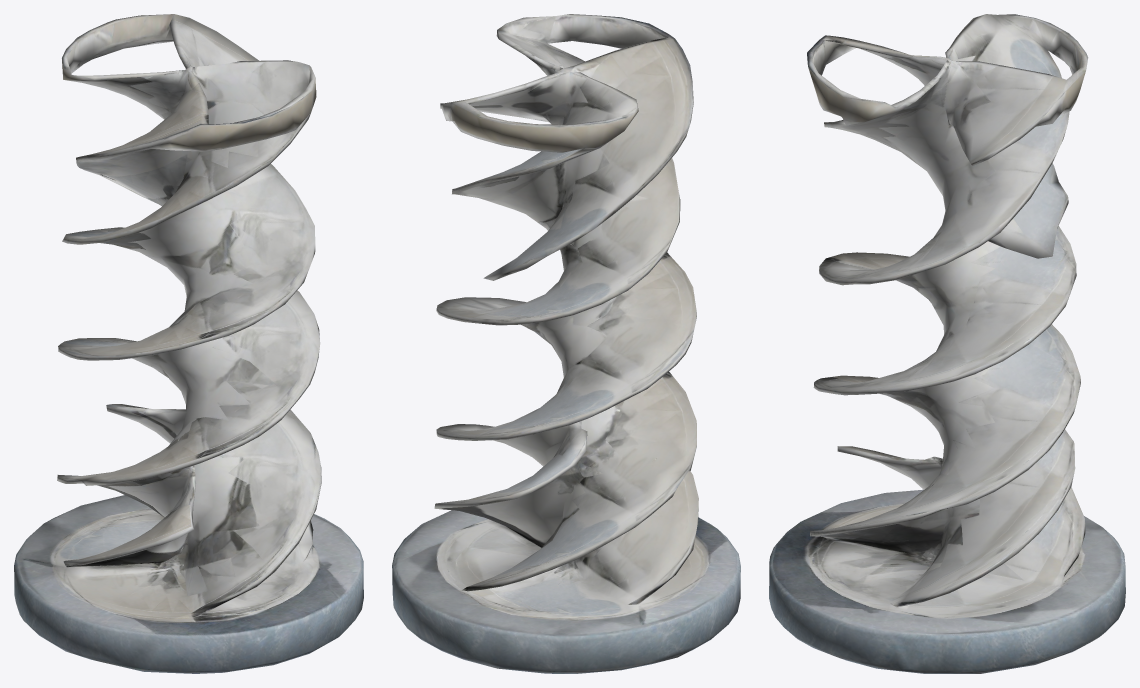
The model's file is testSpiral.glb.
3 views of the same model, side by side, from view 1: azimuth 30°, elevation 25°; view 2: azimuth 150°, elevation 25°; view 3: azimuth 270°, elevation 25° (orthographic).
Parts seen in each view (by area): view 1: Mesh_0; view 2: Mesh_0; view 3: Mesh_0.
Part boxes in pixels (left/top/right/bottom): Mesh_0: left=14, top=14, right=363, bottom=673; Mesh_0: left=392, top=14, right=740, bottom=673; Mesh_0: left=769, top=14, right=1125, bottom=673.
Bounding box in the file's own units: 1.18 × 2 × 1.19.
Materials: 1 (1 with a texture image).
